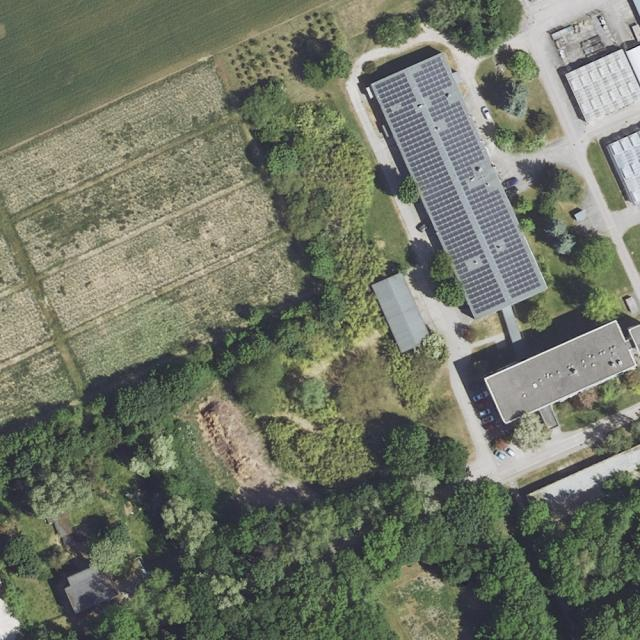PV: (375, 73, 505, 314), (413, 57, 541, 300)
